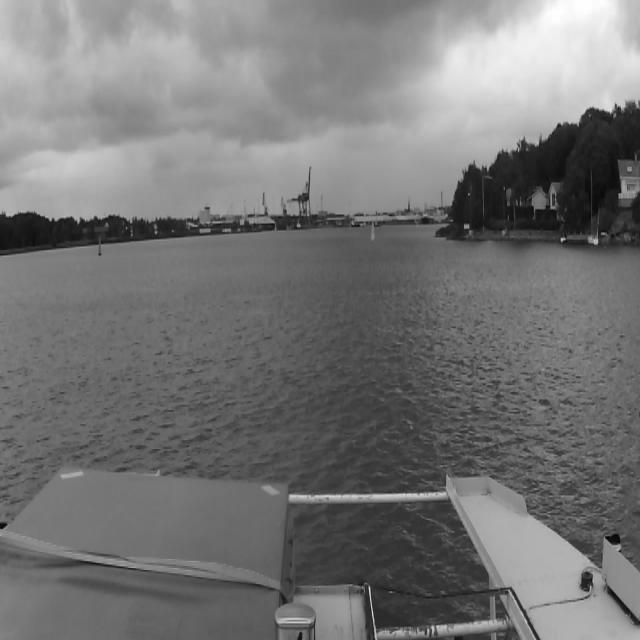buoy: (370, 220, 376, 242), (98, 236, 102, 256), (416, 222, 418, 228)
ship: (587, 170, 599, 246)
